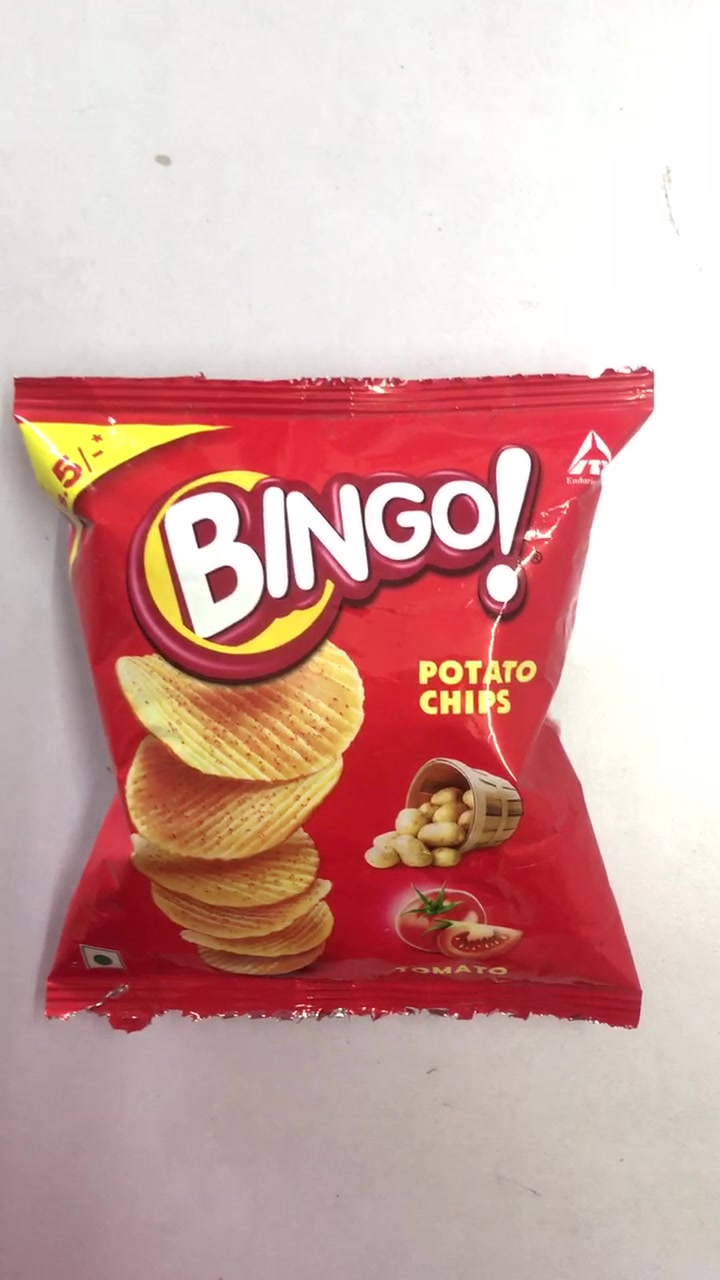Bingo: (26, 384, 633, 1027)
